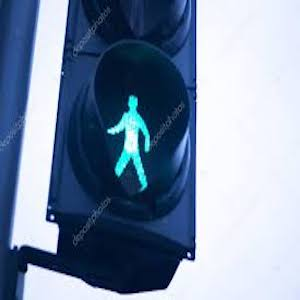green: (100, 89, 162, 199)
